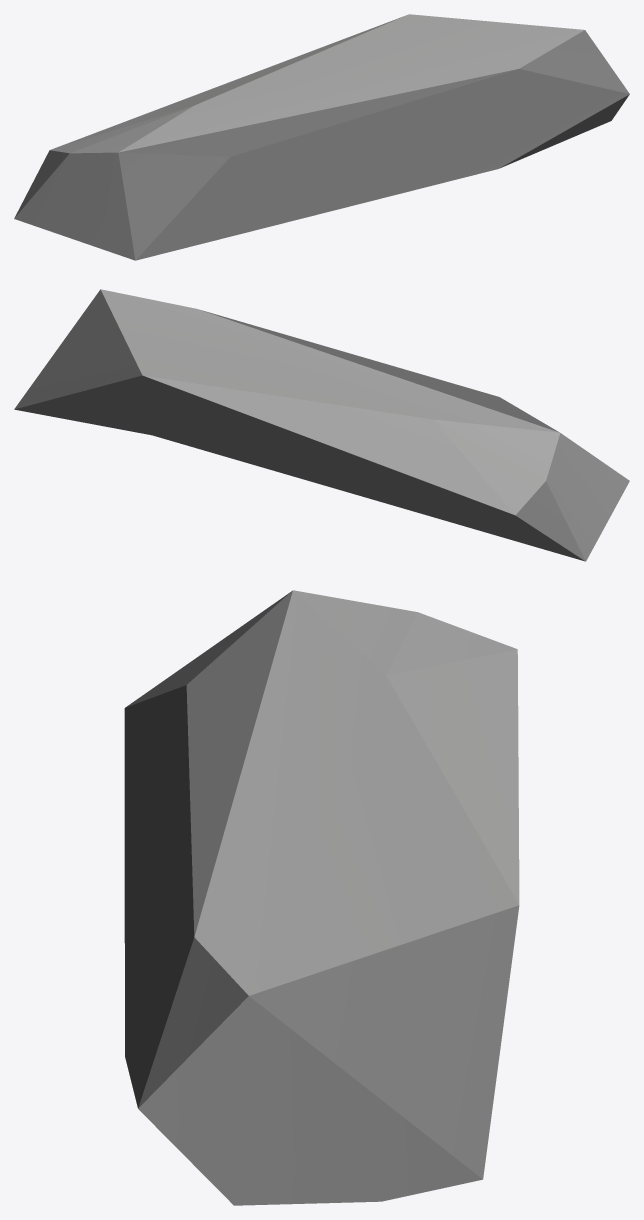
File: stones4.fbx
3 renders of one model, top to bottom at view 1: azimuth 30°, elevation 25°; view 2: azimuth 150°, elevation 25°; view 3: azimuth 270°, elevation 25°, orthographic. The views are drawn at different scales.
Parts seen in each view (by area): view 1: stones4; view 2: stones4; view 3: stones4.
Part boxes in pixels (x1=…): stones4: x1=14, y1=14, x2=629, y2=260; stones4: x1=14, y1=289, x2=629, y2=561; stones4: x1=124, y1=590, x2=519, y2=1205.
Size of the model in its own units: 27.91 by 4.83 by 8.71.
